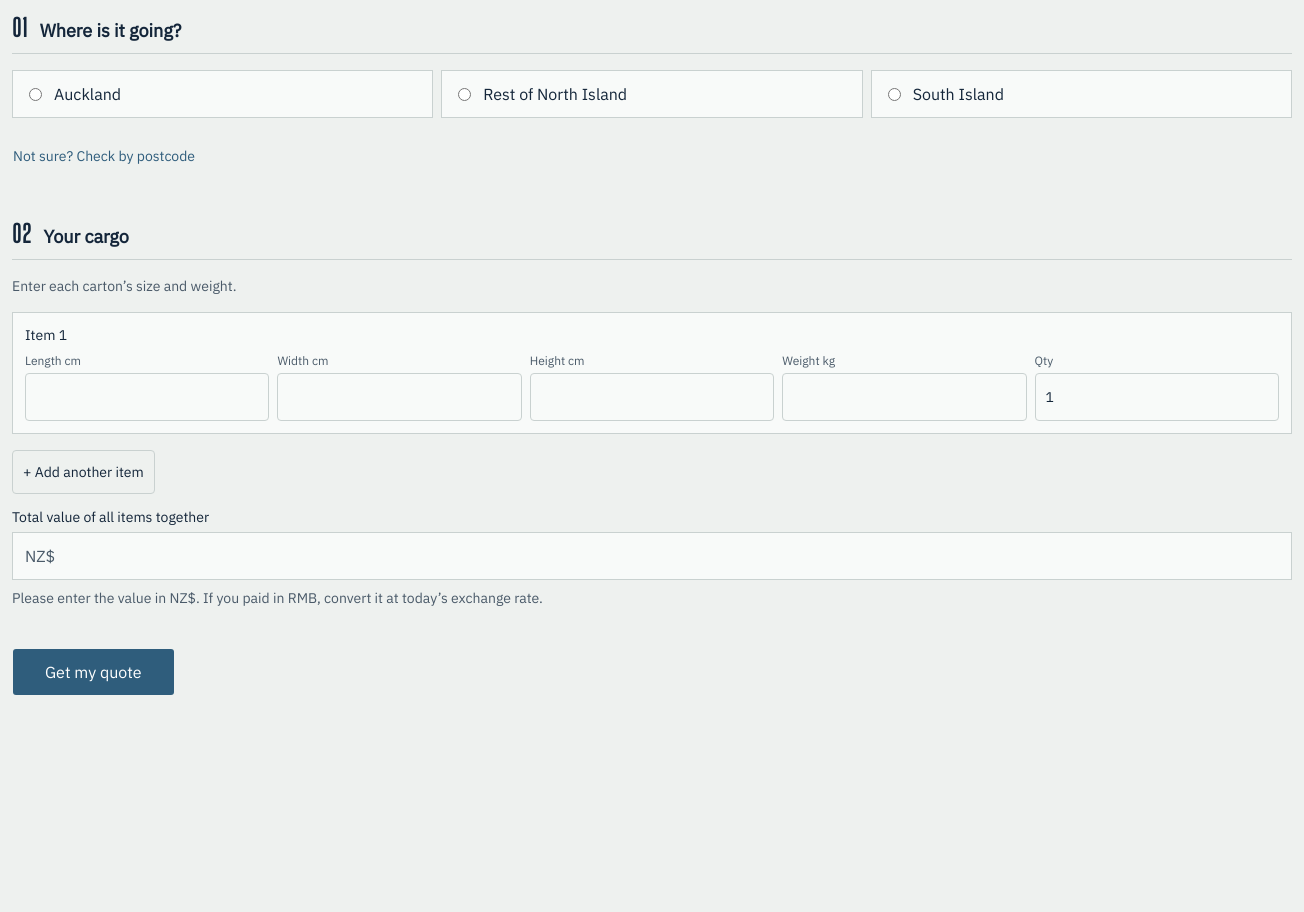
Test: QuoteForm › shows what is missing and does not submit an empty form
The image size is (1304, 912).
Click the button "Get my quote".
click(93, 672)  # box [12,648,175,696]
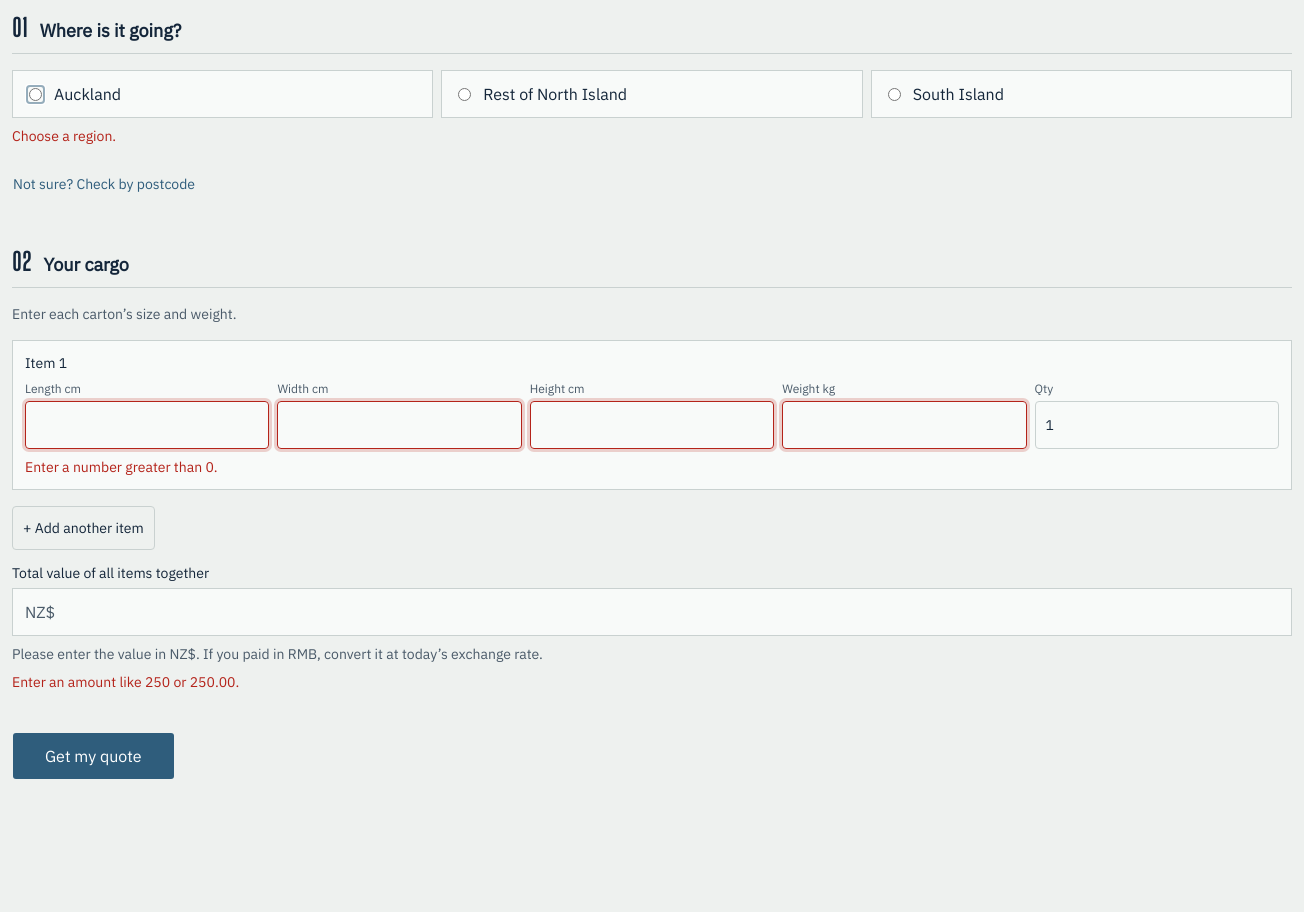
Now the text "Choose a region." is shown, box [12,127,116,145]
Now the text "Enter an amount like 250 or 250.00." is shown, box [12,673,239,691]
